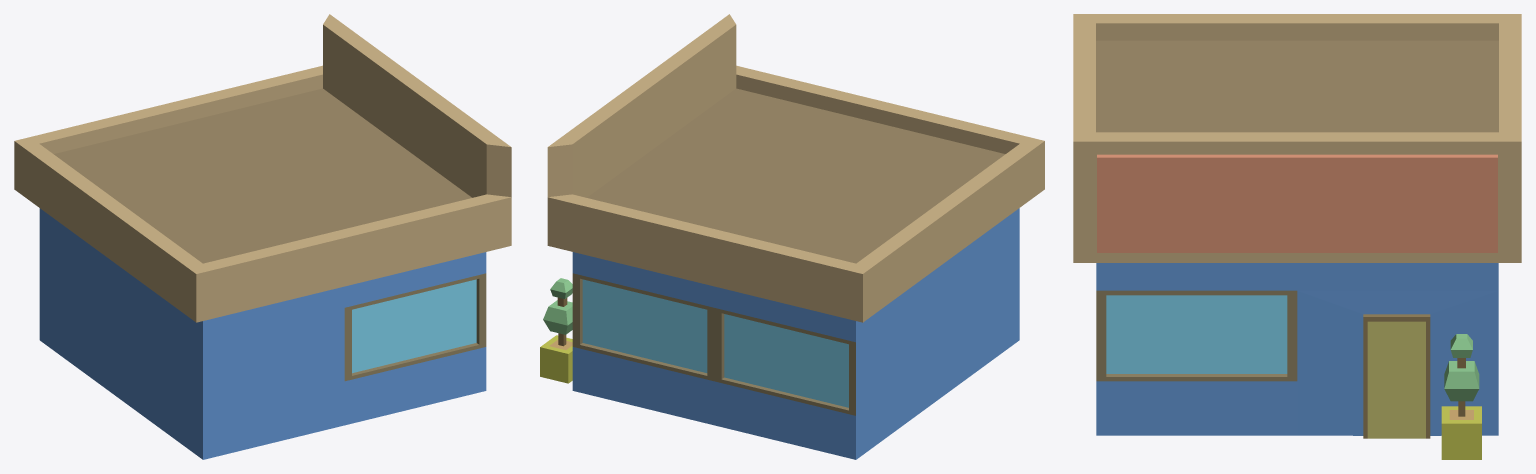
File: StoreBuilding03.fbx
3 renders of one model, left to right at view 1: azimuth 30°, elevation 25°; view 2: azimuth 150°, elevation 25°; view 3: azimuth 270°, elevation 25°, orthographic. The views are drawn at different scales.
Parts seen in each view (by area): view 1: Cube; view 2: Cube; view 3: Cube.
Boxes of the visible parts, <box> form: Cube: <box>14,14,511,459</box>; Cube: <box>540,14,1044,459</box>; Cube: <box>1073,14,1521,459</box>.
Bounding box in the file's own units: 718 × 500 × 668.
